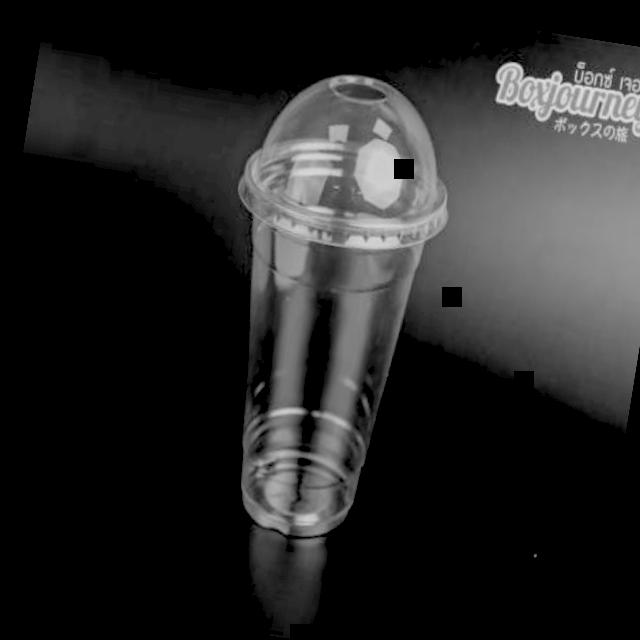plastic_box: (186, 59, 468, 559)
